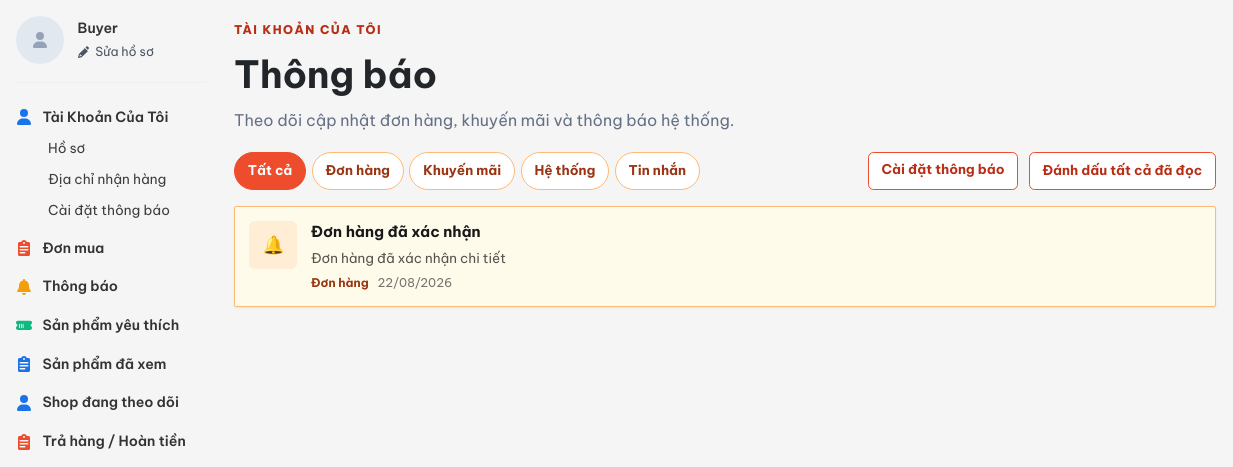
NotificationInbox › loads the all tab and switches category filters
Expected: the text "Đơn hàng đã xác nhận" is shown, [311,222,481,241]
Click the tab "Khuyến mãi": (462, 171) [409,152,515,190]
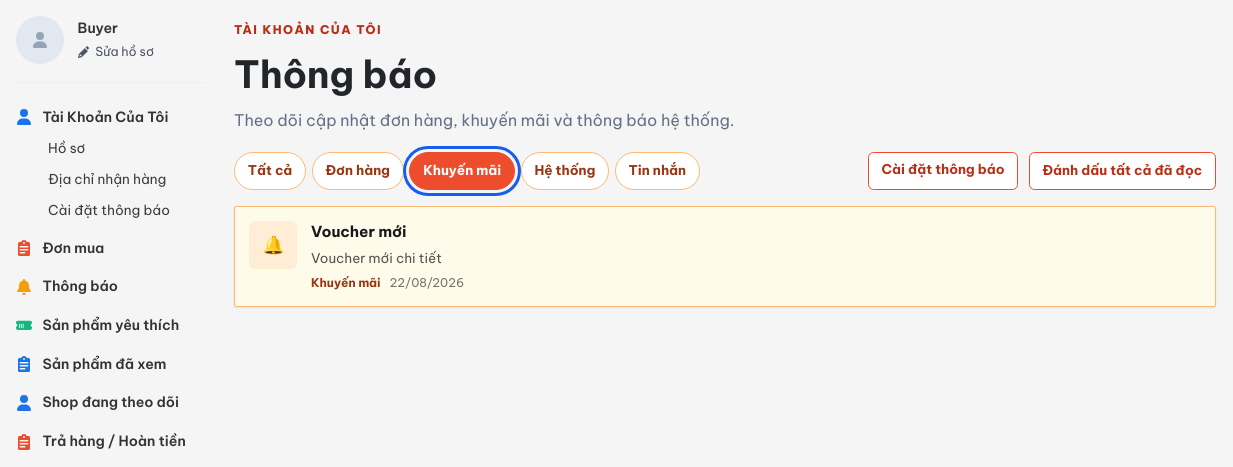
Now the text "Voucher mới" is shown, box [311,222,406,241]
Click the tab "Hệ thống": (565, 171) [521,152,609,190]
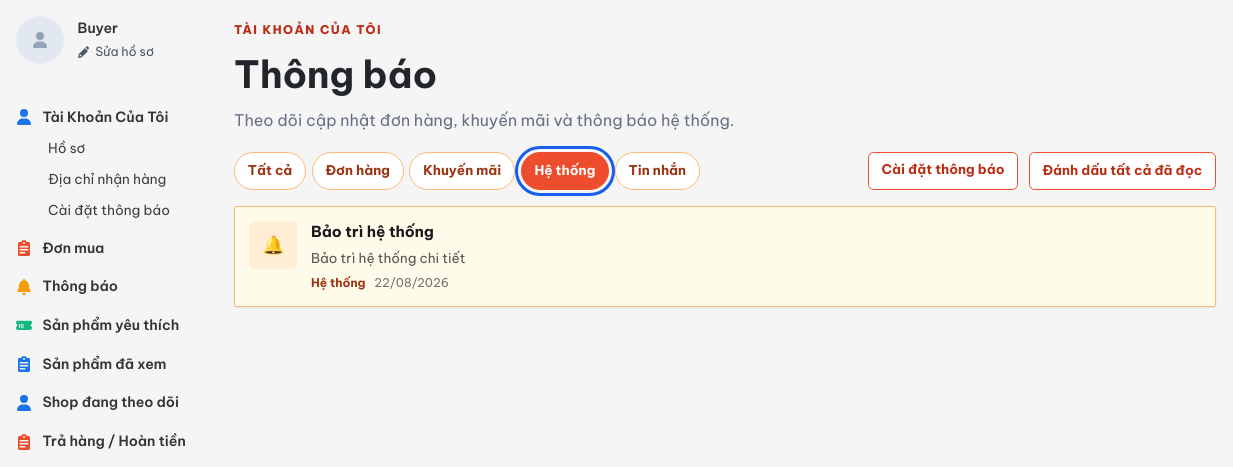
Now the text "Bảo trì hệ thống" is shown, box [311,222,434,241]
